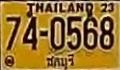0: (50, 16, 64, 49)
4: (22, 15, 36, 49)
5: (66, 15, 80, 49)
6: (83, 16, 97, 49)
7: (5, 16, 20, 50)
8: (99, 16, 113, 49)
CBI: (45, 53, 76, 70)
